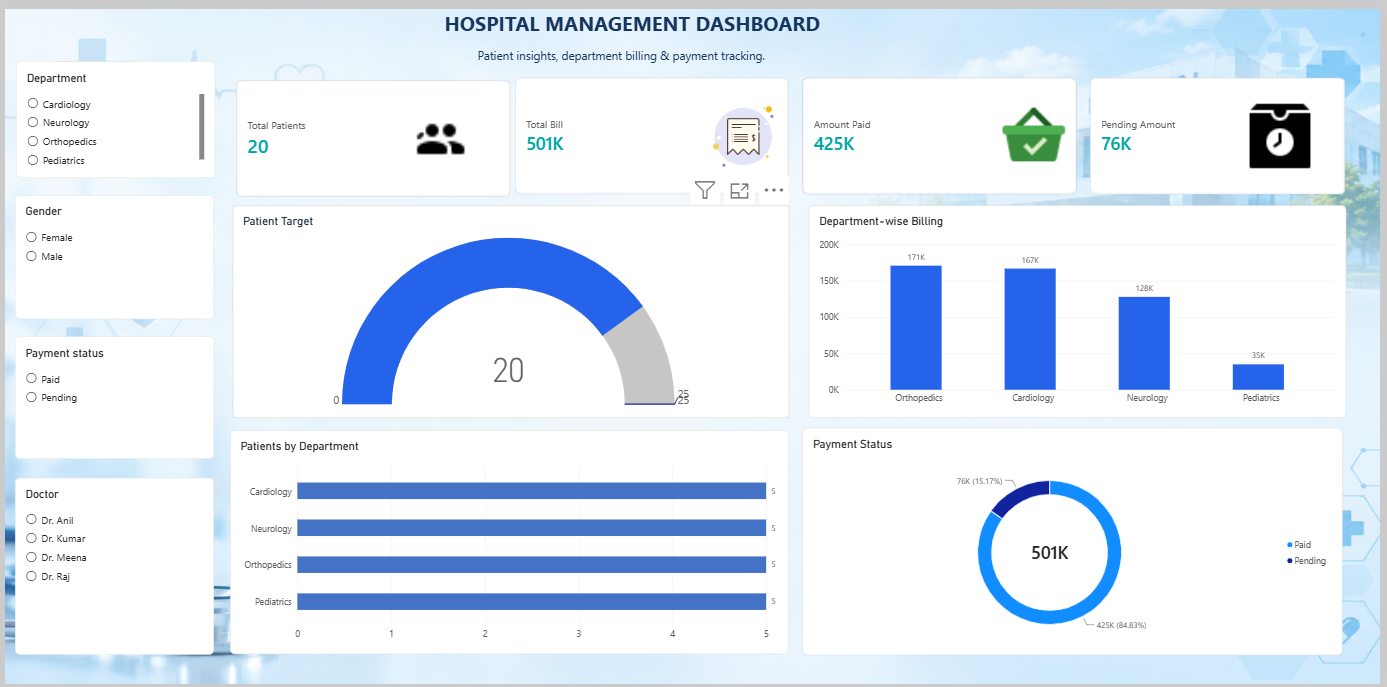

This screenshot's page, from the dashboard's own definition file:
{"tool":"powerbi","page":{"name":"Page 1","canvas":[2200,1080],"ordinal":0},"visuals":[{"type":"cardVisual","fields":{"Data":["Sheet1.total_patients"]},"box":[370.3,113.2,438,186],"z":0},{"type":"cardVisual","fields":{"Data":["Sheet1.total_bill"]},"box":[816,110.8,438,186],"z":1000},{"type":"cardVisual","fields":{"Data":["Sheet1.amount_paid"]},"box":[1275.9,110.8,438,186],"z":2000},{"type":"cardVisual","fields":{"Data":["Sheet1.pending_amount"]},"box":[1735.9,110.8,408,186],"z":3000},{"type":"clusteredBarChart","title":"Patients by Department","fields":{"Category":["Sheet1.Department"],"Y":["CountNonNull(Sheet1.PatientID)"]},"box":[360.9,674.5,894,358],"z":4000},{"type":"clusteredColumnChart","title":"Department-wise Billing","fields":{"Category":["Sheet1.Department"],"Y":["Sum(Sheet1.BillAmount)"]},"box":[1285.4,313.7,860,340],"z":5000},{"type":"donutChart","title":"Payment Status","fields":{"Category":["payment summary.Payment status"],"Y":["Sum(payment summary.Amount)"]},"box":[1275.9,669.8,864,364],"z":6000},{"type":"gauge","title":"Patient Target ","fields":{"MaxValue":["Sheet1.patient_target"],"MinValue":["Sheet1.gauge_Min"],"TargetValue":["Sheet1.patient_target"],"Y":["Sheet1.total_patients"]},"box":[363.2,313.7,892,340],"z":7000},{"type":"textbox","box":[52,0,1868,110],"z":8000},{"type":"image","box":[655.7,146.2,82,124],"z":9000},{"type":"image","box":[1108.5,141.5,146,124],"z":10000},{"type":"image","box":[1575.5,146.2,140,114],"z":11000},{"type":"image","box":[1976.4,141.5,128,122],"z":12000},{"type":"listSlicer","fields":{"Values":["Sheet1.Department"]},"box":[18.9,84.9,318,186],"z":12001},{"type":"listSlicer","fields":{"Values":["Sheet1.Gender"]},"box":[16.5,297.2,318.4,198.1],"z":12002},{"type":"listSlicer","fields":{"Values":["payment summary.Payment status"]},"box":[16.5,523.6,318.4,195.8],"z":12003},{"type":"listSlicer","fields":{"Values":["Sheet1.Doctor"]},"box":[16.5,750,318.4,283],"z":12004}]}

Visuals, with their boxes in screenshot pixels (x1, y1, x2, y2), scaled from the page's 2200x1080 canvas onto the 1387x687 screenshot:
cardVisual - Sheet1.total_patients: select_region(233, 72, 510, 190)
cardVisual - Sheet1.total_bill: select_region(514, 70, 791, 189)
cardVisual - Sheet1.amount_paid: select_region(804, 70, 1081, 189)
cardVisual - Sheet1.pending_amount: select_region(1094, 70, 1352, 189)
"Patients by Department" clusteredBarChart: select_region(228, 429, 791, 657)
"Department-wise Billing" clusteredColumnChart: select_region(810, 200, 1353, 416)
"Payment Status" donutChart: select_region(804, 426, 1349, 658)
"Patient Target " gauge: select_region(229, 200, 791, 416)
textbox: select_region(33, 0, 1210, 70)
image: select_region(413, 93, 465, 172)
image: select_region(699, 90, 791, 169)
image: select_region(993, 93, 1082, 166)
image: select_region(1246, 90, 1327, 168)
listSlicer - Sheet1.Department: select_region(12, 54, 212, 172)
listSlicer - Sheet1.Gender: select_region(10, 189, 211, 315)
listSlicer - payment summary.Payment status: select_region(10, 333, 211, 458)
listSlicer - Sheet1.Doctor: select_region(10, 477, 211, 657)
